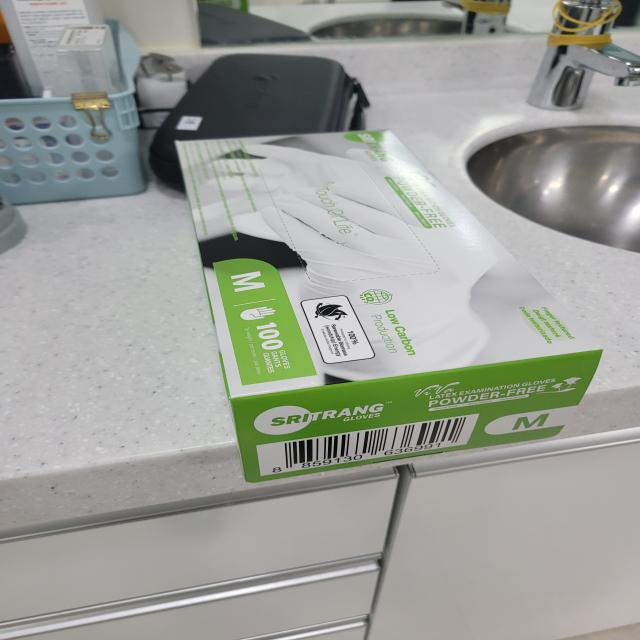glove: (167, 128, 585, 478)
